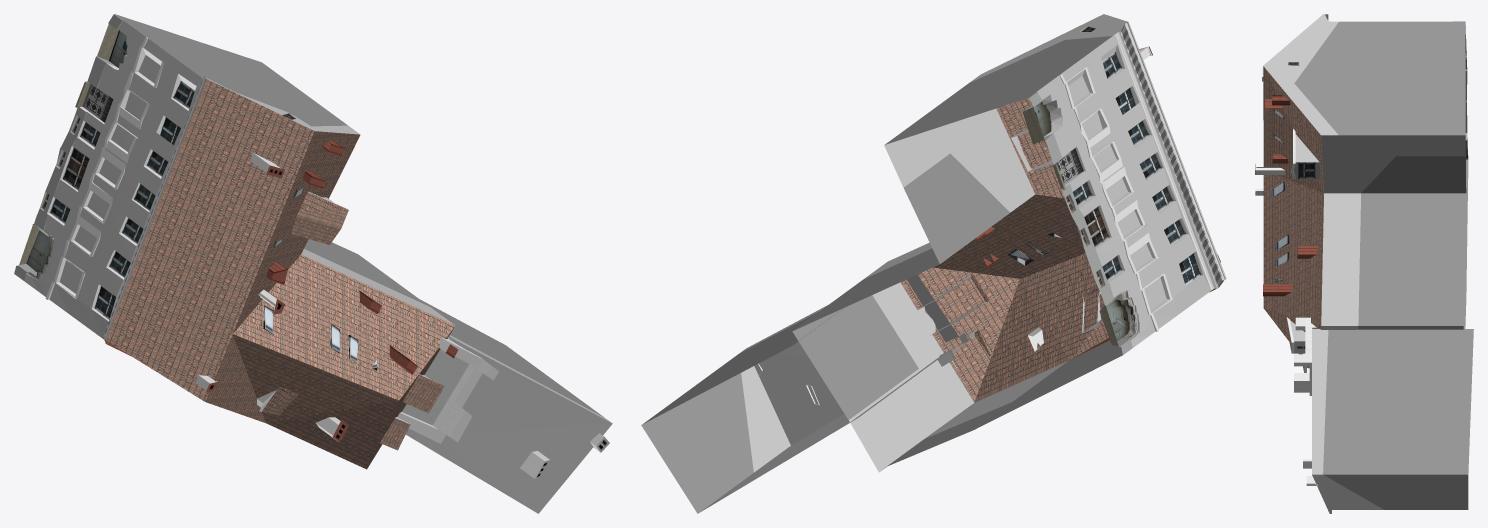
File: Lai-32-origo.obj
3 views of the same model, side by side, from view 1: azimuth 30°, elevation 25°; view 2: azimuth 150°, elevation 25°; view 3: azimuth 270°, elevation 25° (orthographic). The views are drawn at different scales.
Visible parts, largest first — view 1: Lai_32; view 2: Lai_32; view 3: Lai_32.
Boxes of the visible parts, <box> form: Lai_32: <box>14,14,612,513</box>; Lai_32: <box>641,14,1226,513</box>; Lai_32: <box>1255,14,1473,513</box>.
Size of the model in its own units: 34.12 by 34 by 17.73.
